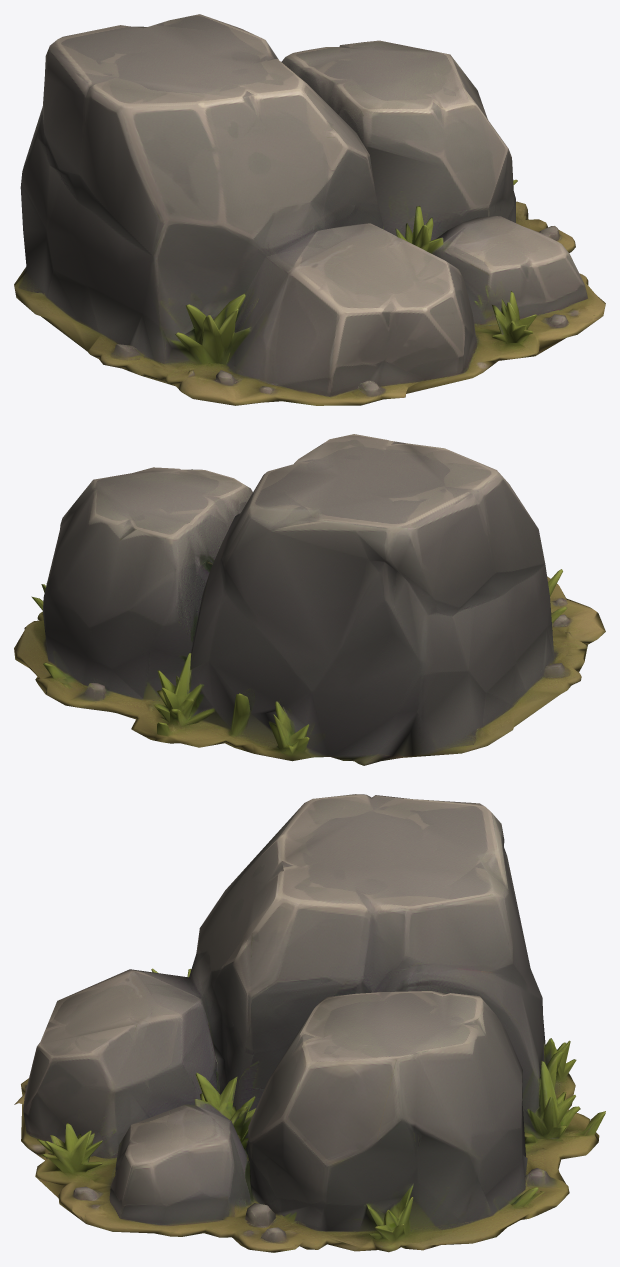
File: Stone1.fbx
3 views of the same model, one above another, from view 1: azimuth 30°, elevation 25°; view 2: azimuth 150°, elevation 25°; view 3: azimuth 270°, elevation 25° (orthographic). The views are drawn at different scales.
Parts seen in each view (by area): view 1: Mesh_0; view 2: Mesh_0; view 3: Mesh_0.
Boxes of the visible parts, left/top/right/bottom form: Mesh_0: left=14, top=14, right=605, bottom=405; Mesh_0: left=14, top=434, right=605, bottom=765; Mesh_0: left=14, top=794, right=605, bottom=1252.
Bounding box in the file's own units: 188 × 84.17 × 191.
Materials: 1 (1 with a texture image).
